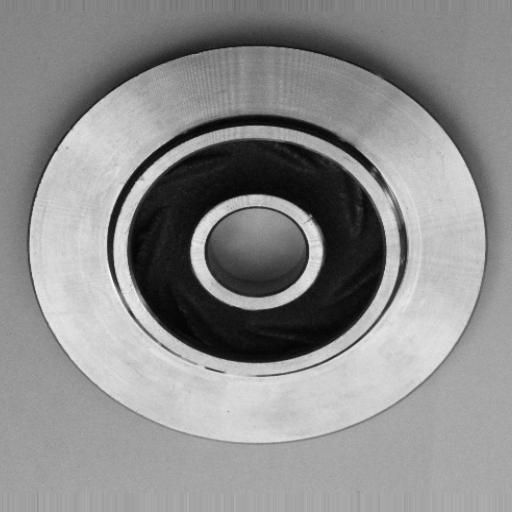scratch: (182, 349, 271, 392), (289, 202, 330, 240)
unpolished_casting: (25, 40, 494, 450)
